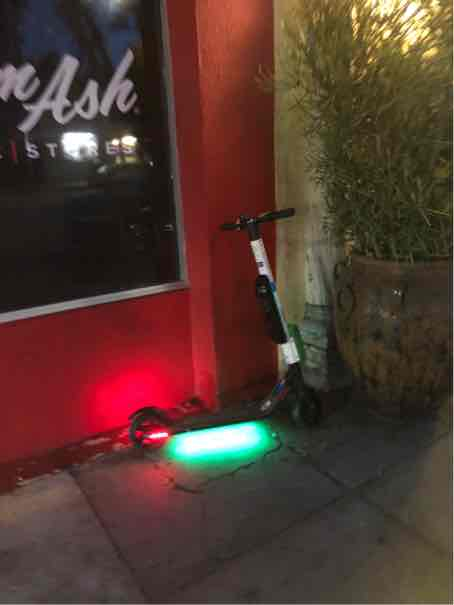scooter: (125, 199, 322, 479)
